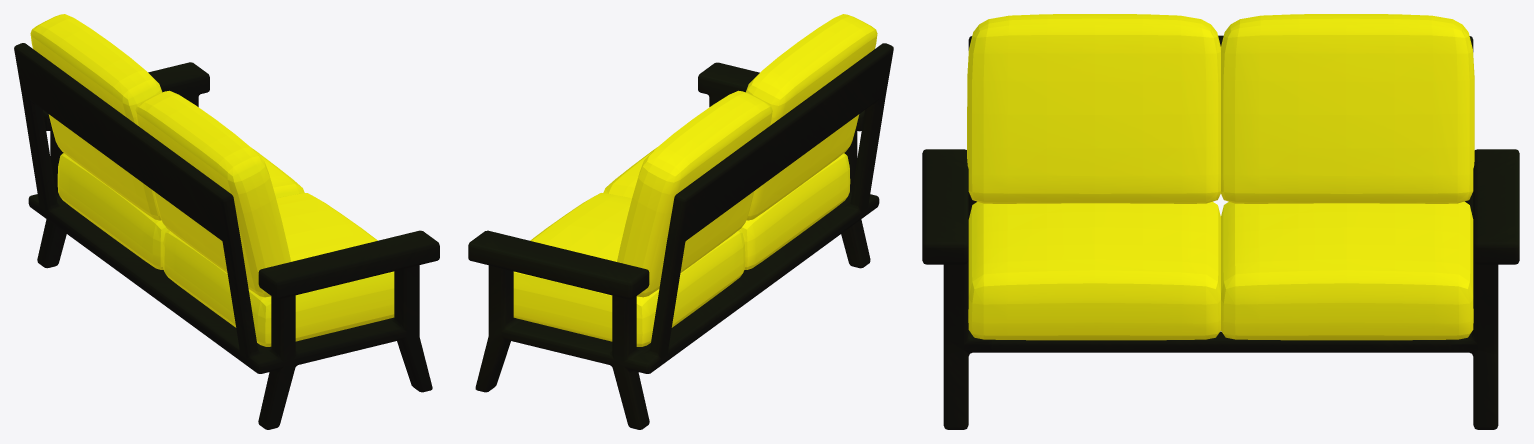
The model's file is sofa.glb.
3 renders of one model, left to right at view 1: azimuth 30°, elevation 25°; view 2: azimuth 150°, elevation 25°; view 3: azimuth 270°, elevation 25°, orthographic. The views are drawn at different scales.
Visible parts, largest first — view 1: room1_sofa; view 2: room1_sofa; view 3: room1_sofa.
Boxes of the visible parts, bbox=[...] form: room1_sofa: bbox=[14, 14, 439, 429]; room1_sofa: bbox=[468, 14, 893, 429]; room1_sofa: bbox=[922, 14, 1519, 429].
Bounding box in the file's own units: 2.38 × 3 × 5.13.
Materials: 1 (1 with a texture image).
